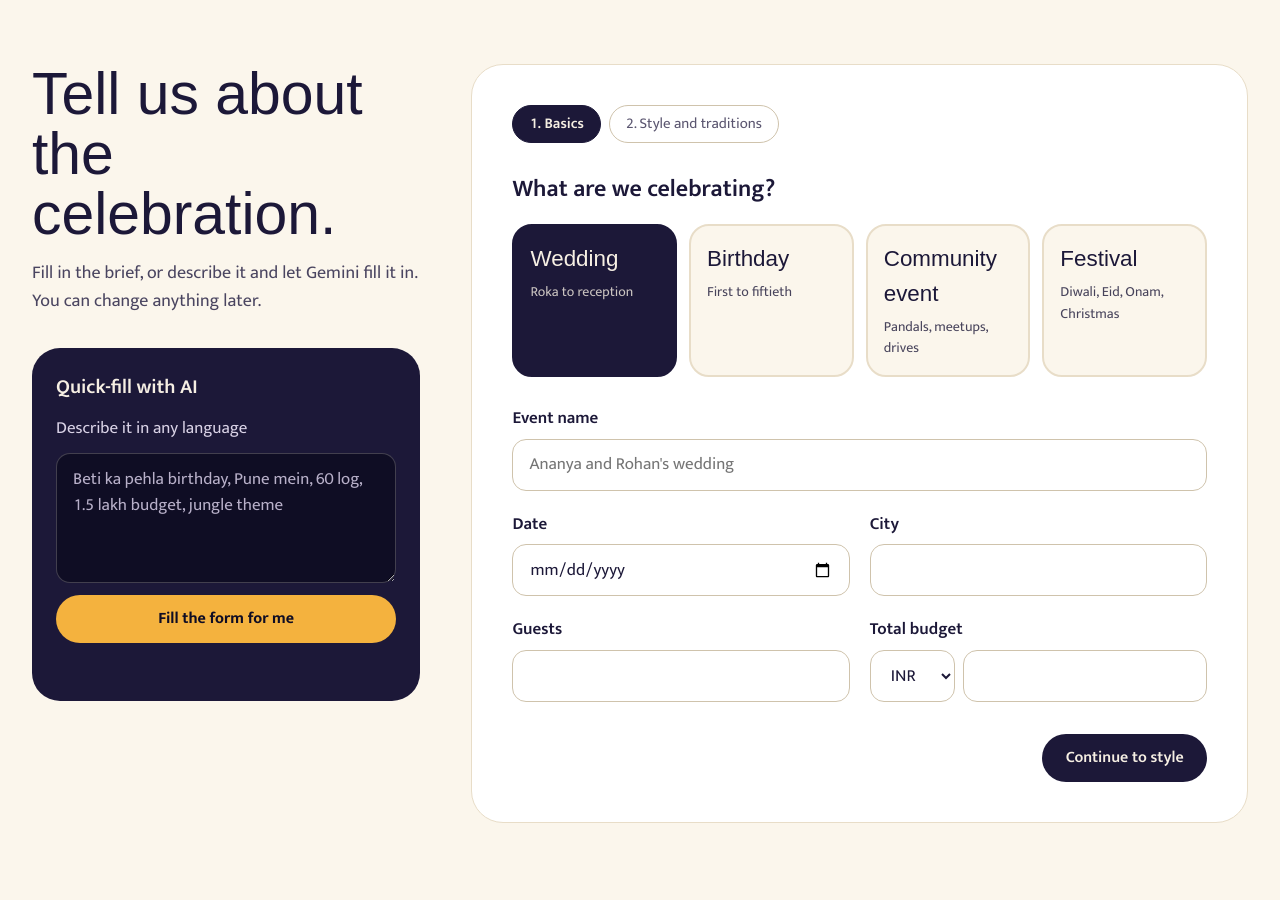
BriefWizard › fills the brief from a free-text description with Gemini
In the text box labelled "Describe it in any language": (226, 518) [56,453,396,583], type "Beti ka birthday, Pune, 60 log"
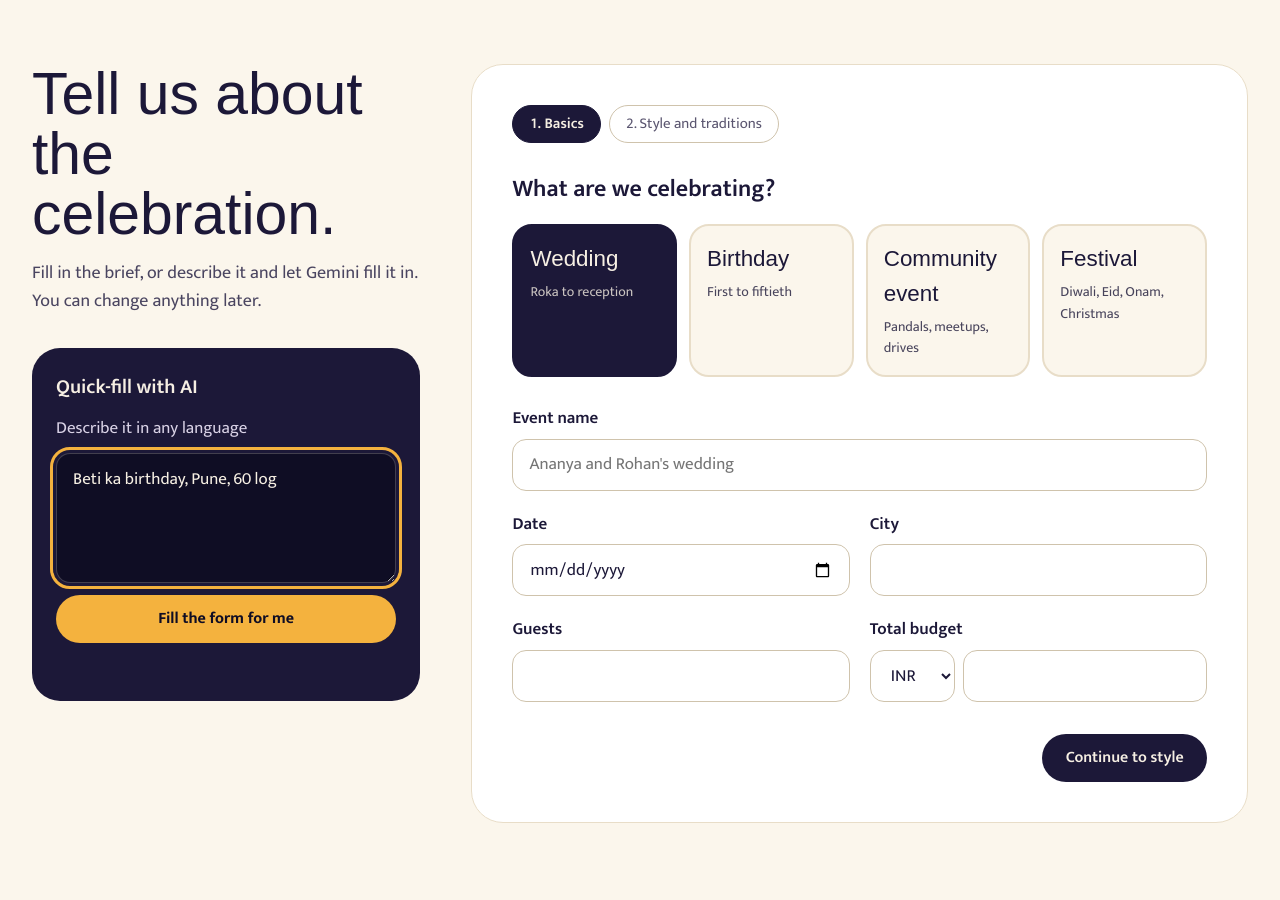
Click the button "Fill the form for me": click(226, 619) [56,595,396,643]
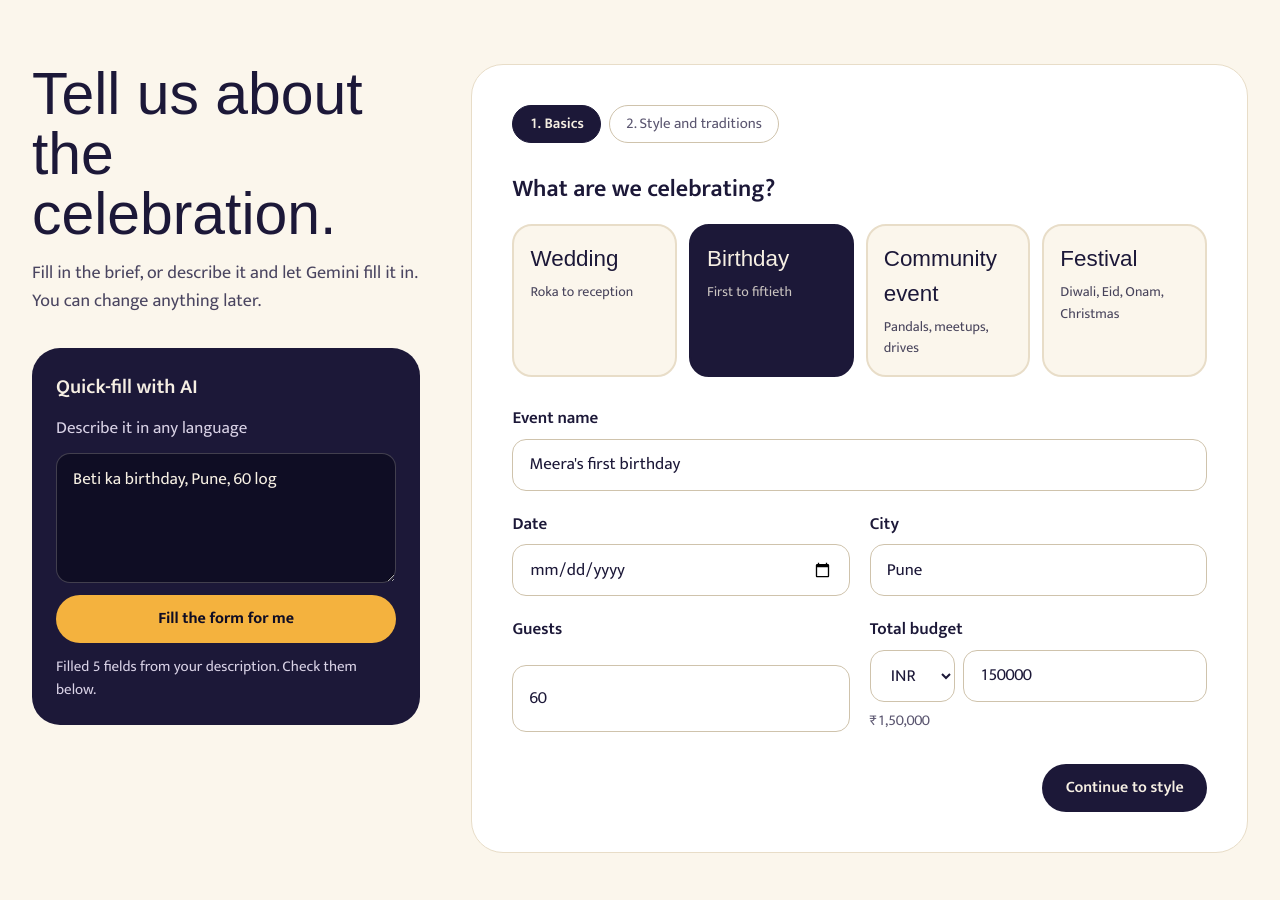
Now the text "Filled 5 fields from your description. Check them below." is shown, box [56,655,396,701]
Now the field labelled "Event name" holds "Meera's first birthday", box [512,439,1207,491]
Now the field labelled "City" holds "Pune", box [870,544,1207,596]
